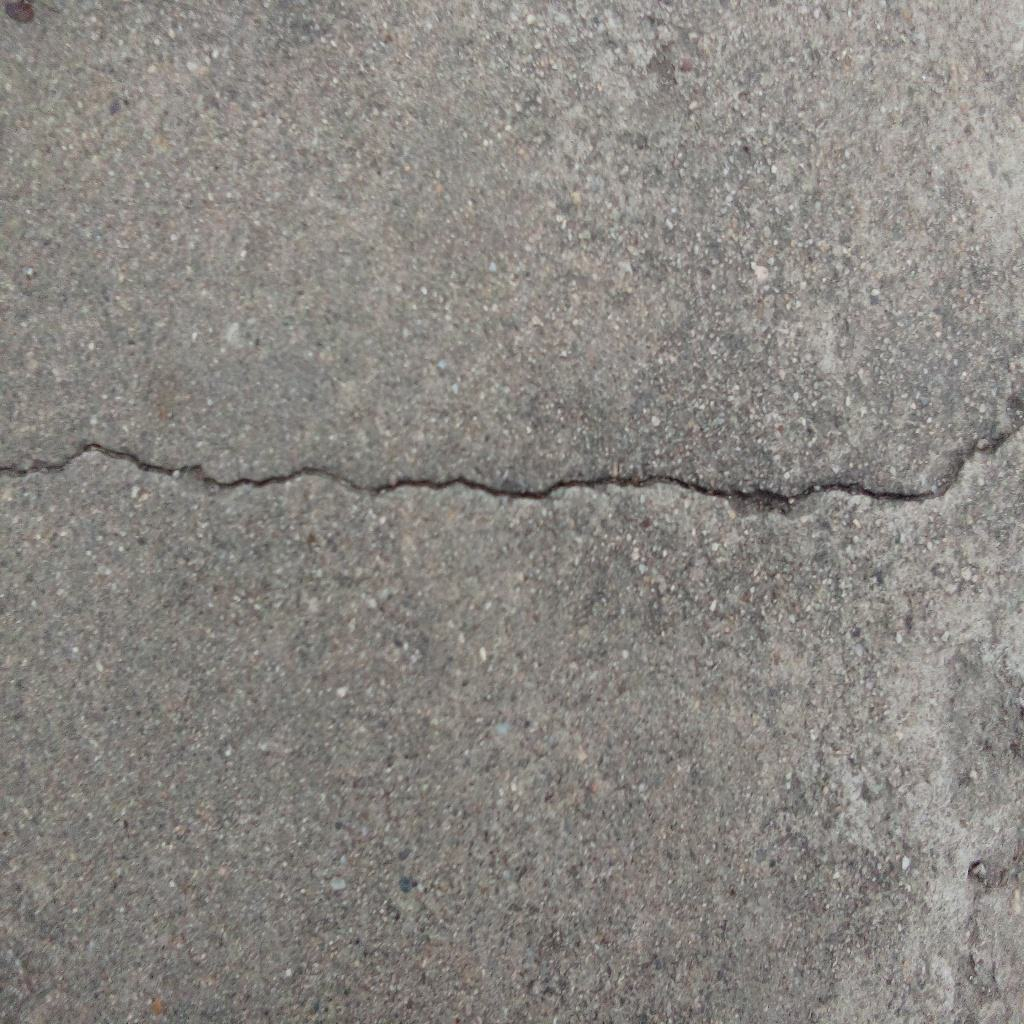Crack: (1, 394, 1024, 521)
